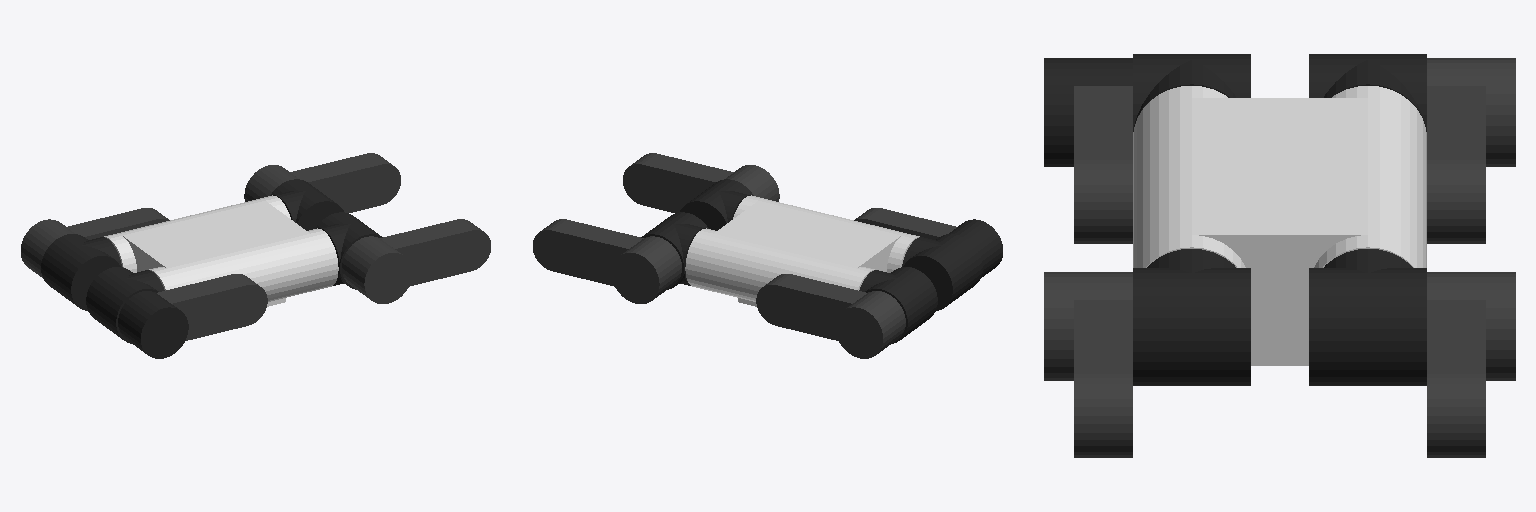
--- Render facts (derived) ---
3 views of the same robot in one strip: view 1: azimuth 30°, elevation 25°; view 2: azimuth 150°, elevation 25°; view 3: azimuth 270°, elevation 25° (orthographic).
Model felin with 17 links and 16 joints (12 revolute, 4 fixed), rooted at body-base, posed every joint at zero.
Visible links, largest first — view 1: body-base, RR-femur, FR-femur, FL-femur, RL-pod, RL-femur, RR-pod, FL-pod, FR-pod; view 2: body-base, RL-femur, FL-femur, FR-femur, RR-pod, RR-femur, RL-pod, FR-pod, FL-pod; view 3: body-base, FR-pod, FL-pod, FR-femur, RR-femur, FL-femur, RL-femur, RR-pod, RL-pod.
Boxes of the visible links, <box> form: body-base: <box>104,195,338,306</box>; RR-femur: <box>118,274,267,358</box>; FR-femur: <box>342,219,490,303</box>; FL-femur: <box>244,153,400,212</box>; RL-pod: <box>41,234,121,310</box>; RL-femur: <box>21,208,169,277</box>; RR-pod: <box>86,267,164,343</box>; FL-pod: <box>270,179,343,230</box>; FR-pod: <box>315,212,382,289</box>; body-base: <box>685,195,919,306</box>; RL-femur: <box>756,274,905,358</box>; FL-femur: <box>533,219,681,303</box>; FR-femur: <box>623,153,779,212</box>; RR-pod: <box>902,234,982,310</box>; RR-femur: <box>854,208,1002,277</box>; RL-pod: <box>859,267,937,343</box>; FR-pod: <box>680,179,753,230</box>; FL-pod: <box>641,212,708,289</box>; body-base: <box>1133,86,1426,365</box>; FR-pod: <box>1133,249,1250,385</box>; FL-pod: <box>1309,249,1426,385</box>; FR-femur: <box>1044,272,1132,457</box>; RR-femur: <box>1044,58,1132,243</box>; FL-femur: <box>1427,272,1515,457</box>; RL-femur: <box>1427,58,1515,243</box>; RR-pod: <box>1133,54,1250,131</box>; RL-pod: <box>1309,54,1426,131</box>.
Size in the robot's own frame: 0.554 by 0.32 by 0.108 metres.
Geometry: primitives only (box / cylinder / sphere), no mesh files.

robot.urdf — felin:
<?xml version="1.0"?>

<!-- 
    ############################################
    ######              MEMO              ######
    ############################################
    x = front
    y = left
    z = up
    
    Origin is placed at geometry center of the body 

    https://mymodelrobot.appspot.com/[number redacted]
-->

<robot name="felin">


    <material name="white">
        <color rgba="0.9 0.9 0.9 1.0"/>
    </material>
    <material name="black">
        <color rgba="0.2 0.2 0.2 1.0"/>
    </material>
    <material name="dark_grey">
        <color rgba="0.3 0.3 0.3 1.0"/>
    </material>    
    <material name="grey">
        <color rgba="0.6 0.6 0.6 1.0"/>
    </material>

    <!-- 
    ############################################
    ######              BODY              ######
    ############################################
    -->
    <!--
    ********************************************
    ******              PARTS             ******
    ********************************************
    -->
    <link name="body-base">
        <!--body-base-case-->
        <visual>
            <geometry>
                <box size="0.220 0.120 0.080"/>
            </geometry>
            <origin rpy="0 0 0" xyz="0 0 0"/>
            <material name="white"/>          
        </visual>
        <collision>
            <geometry>
                <box size="0.220 0.120 0.080"/>
            </geometry>
            <origin rpy="0 0 0" xyz="0 0 0"/>
        </collision>
        
        <!--body-base-right-cylinder-->
        <visual>
            <geometry>
                <cylinder length="0.260" radius="0.040"/> 
            </geometry>
            <origin rpy="0 1.57079 0" xyz="0.0 -0.06 0"/>
            <material name="white"/>                          
        </visual>
        <collision>
            <geometry>
                <cylinder length="0.260" radius="0.040"/> 
            </geometry>
            <origin rpy="0 1.57079 0" xyz="0.0 -0.06 0"/>
        </collision>

        <!--body-base-left-cylinder-->
        <visual>
            <geometry>
                <cylinder length="0.260" radius="0.040"/> 
            </geometry>
            <origin rpy="0 1.57079 0" xyz="0.0 0.06 0"/>
            <material name="white"/>                          
        </visual>
        <collision>
            <geometry>
                <cylinder length="0.260" radius="0.040"/> 
            </geometry>
            <origin rpy="0 1.57079 0" xyz="0.0 0.06 0"/>
        </collision>

        <!--body-battery-holder-->
        <visual>
            <geometry>
                <box size="0.178 0.060 0.028"/>
            </geometry>
            <origin rpy="0 0 0" xyz="0.0 0.0 -0.054"/>
            <material name="white"/>                          
        </visual>
        <collision>
            <geometry>
                <box size="0.178 0.060 0.028"/>
            </geometry>
            <origin rpy="0 0 0" xyz="0.0 0.0 -0.054"/>
        </collision>

        <inertial>
            <origin rpy="0 0 0" xyz="0.050 0 0"/>
            <mass value="2.4"/> <!--3-->
            <inertia ixx="0.02" ixy="0.0" ixz="0.0" iyy="0.03" iyz="0.0" izz="0.03"/>
        </inertial>
    </link>
        
    <!-- 
    ############################################
    ######              LEG Front Right   ######
    ############################################
    -->
    <!--
    ********************************************
    ******              PARTS             ******
    ********************************************
    -->
    <link name="FR-pod">
        <visual>
            <geometry>
                <cylinder length="0.080" radius="0.040"/>
            </geometry>
            <origin rpy="1.57079 0 0" xyz="0 0 0"/>
            <material name="black"/>
        </visual>
        <visual>
            <geometry>
                <cylinder length="0.040" radius="0.040"/>
            </geometry>
            <origin rpy="0.0 0 0" xyz="0.0 0 0.02"/>
            <material name="black"/>                          
        </visual>
        <collision>
            <geometry>
                <cylinder length="0.080" radius="0.040"/>
            </geometry>
            <origin rpy="1.57079 0 0" xyz="0 0 0"/>
        </collision>
        <inertial>
            <mass value="0.4"/>
            <inertia ixx="0.0003" ixy="0.0" ixz="0.0" iyy="0.0008" iyz="0.0" izz="0.0008"/>
        </inertial>        
    </link>
    
    <link name="FR-femur">
        <visual>
            <geometry>
                <cylinder radius="0.037" length="0.060"/>
            </geometry>
            <origin rpy="0.0 0.0 0.0" xyz="0.0 0.0 -0.01"/>
            <material name="dark_grey"/>          
        </visual>
        <visual>
            <geometry>
                <box size="0.140 0.060 0.040"/>
            </geometry>
            <origin rpy="0 0 0" xyz="0.07 0 0"/>
            <material name="dark_grey"/>
        </visual>
        <visual>
            <geometry>
                <cylinder radius="0.03" length="0.040"/>
            </geometry>
            <origin rpy="0.0 0.0 0.0" xyz="0.14 0.0 0.0"/>
            <material name="dark_grey"/>
        </visual>

        <collision>
            <geometry>
                <cylinder radius="0.037" length="0.060"/>
            </geometry>
            <origin rpy="0.0 0.0 0.0" xyz="0.0 0.0 -0.01"/>
        </collision>
        <collision>
            <geometry>
                <box size="0.140 0.060 0.040"/>
            </geometry>
            <origin rpy="0 0 0" xyz="0.07 0 0"/>          
        </collision>
        <collision>
            <geometry>
                <cylinder radius="0.03" length="0.040"/>
            </geometry>
            <origin rpy="0.0 0.0 0.0" xyz="0.14 0.0 0.0"/>        
        </collision>

        <inertial>
          <mass value="0.5"/>
          <inertia ixx="0.0001" ixy="0.0" ixz="0.0" iyy="0.0001" iyz="0.0" izz="0.0001"/>
        </inertial>      
    </link>
    
    <link name="FR-tibia">
        <visual>
            <geometry>
                <box size="0.150 0.020 0.025"/>
            </geometry>
            <origin rpy="0 0 0" xyz="0.075 0 0"/>
            <material name="grey"/>  
        </visual>
        <collision>
            <geometry>
                <box size="0.150 0.020 0.025"/>
            </geometry>
            <origin rpy="0 0 0" xyz="0.075 0 0"/>
        </collision>
        <inertial>
          <mass value="0.1"/>
          <inertia ixx="0.0001" ixy="0.0" ixz="0.0" iyy="0.0001" iyz="0.0" izz="0.0001"/>
        </inertial>      
    </link>

    <link name="FR-foot">
        <visual>
            <geometry>
                <sphere radius="0.022"/>
            </geometry>
            <material name="black"/>     
        </visual>
        <collision>
            <geometry>
                <sphere radius="0.022"/>
            </geometry>
        </collision>
        <contact>
            <stiffness value="10000"/>
            <damping value="1000"/>
            <lateral_friction value="1"/>
        </contact>   
        <inertial>
          <mass value="0.05"/>
          <inertia ixx="0.0001" ixy="0.0" ixz="0.0" iyy="0.0001" iyz="0.0" izz="0.0001"/>
        </inertial>           
    </link>
    
    <!--
    ********************************************
    ******             JOINTS             ******
    ********************************************
    -->
    <joint name="FR-ABD" type="revolute">
        <parent link="body-base"/>
        <child link="FR-pod"/>
        <origin rpy="0 -1.57079 0" xyz="0.172 -0.060 0"/>
        <axis xyz="0 0 1"/>
        <limit lower="-0.4" upper="0.4" effort="100" velocity="1000"/>      
    </joint>
    
    <joint name="FR-HIPS" type="revolute">
        <parent link="FR-pod"/>
        <child link="FR-femur"/>
        <!--<origin rpy="-1.57079 0 1.57079" xyz="0.0 -0.06 0.0"/> --><!-- abduction along y -->
        <origin rpy="-1.57079 1.57079 0" xyz="0.0 -0.06 0.0"/>
        <axis xyz="0 0 1"/>
        <limit lower="0.0" upper="3.4" effort="100" velocity="1000"/>
    </joint>
    
    <joint name="FR-KNEE" type="revolute">
        <parent link="FR-femur"/>
        <child link="FR-tibia"/>
        <origin rpy="0 0 -3.14159" xyz="0.140 0.0 0"/>
        <axis xyz="0 0 1"/>
        <limit lower="0.0" upper="3.1" effort="100" velocity="1000"/>
    </joint>
    
    <joint name="FR-FOOT" type="fixed">
        <parent link="FR-tibia"/>
        <child link="FR-foot"/>
        <origin rpy="0 0 0" xyz="0.150 0.0 -0.0"/>
    </joint>

    <!-- 
    ############################################
    ######              LEG Rear Right   ######
    ############################################
    -->
    <!--
    ********************************************
    ******              PARTS             ******
    ********************************************
    -->
    <link name="RR-pod">
        <visual>
            <geometry>
                <cylinder length="0.080" radius="0.040"/>
            </geometry>
            <origin rpy="1.57079 0 0" xyz="0 0 0"/>
            <material name="black"/>
        </visual>
        <visual>
            <geometry>
                <cylinder length="0.040" radius="0.040"/>
            </geometry>
            <origin rpy="0.0 0 0" xyz="0.0 0 -0.02"/>
            <material name="black"/>
        </visual>
        <collision>
            <geometry>
                <cylinder length="0.080" radius="0.040"/>
            </geometry>
            <origin rpy="1.57079 0 0" xyz="0 0 0"/>
        </collision>
        <inertial>
            <mass value="0.4"/>
            <inertia ixx="0.0003" ixy="0.0" ixz="0.0" iyy="0.0008" iyz="0.0" izz="0.0008"/>
        </inertial>           
    </link>
    

    <link name="RR-femur">
        <visual>
            <geometry>
                <cylinder radius="0.037" length="0.060"/>
            </geometry>
            <origin rpy="0.0 0.0 0.0" xyz="0.0 0.0 -0.01"/>
            <material name="dark_grey">
                <color rgba="0.2 0.2 0.2 1.0"/>
           </material>            
        </visual>
        <visual>
            <geometry>
                <box size="0.140 0.060 0.040"/>
            </geometry>
            <origin rpy="0 0 0" xyz="0.07 0 0"/>
            <material name="dark_grey"/>       
        </visual>
        <visual>
            <geometry>
                <cylinder radius="0.03" length="0.040"/>
            </geometry>
            <origin rpy="0.0 0.0 0.0" xyz="0.14 0.0 0.0"/>
            <material name="dark_grey"/>      
        </visual>

        <collision>
            <geometry>
                <cylinder radius="0.037" length="0.060"/>
            </geometry>
            <origin rpy="0.0 0.0 0.0" xyz="0.0 0.0 -0.01"/>
        </collision>
        <collision>
            <geometry>
                <box size="0.140 0.060 0.040"/>
            </geometry>
            <origin rpy="0 0 0" xyz="0.07 0 0"/>          
        </collision>
        <collision>
            <geometry>
                <cylinder radius="0.03" length="0.040"/>
            </geometry>
            <origin rpy="0.0 0.0 0.0" xyz="0.14 0.0 0.0"/>        
        </collision>

        <inertial>
          <mass value="0.5"/>
          <inertia ixx="0.0001" ixy="0.0" ixz="0.0" iyy="0.0001" iyz="0.0" izz="0.0001"/>
        </inertial>      
    </link>
    

    <link name="RR-tibia">
        <visual>
            <geometry>
                <box size="0.150 0.020 0.025"/>
            </geometry>
            <origin rpy="0 0 0" xyz="0.075 0 0"/>
            <material name="grey"/>     
        </visual>
        <collision>
            <geometry>
                <box size="0.150 0.020 0.025"/>
            </geometry>
            <origin rpy="0 0 0" xyz="0.075 0 0"/>
        </collision>
        <inertial>
          <mass value="0.1"/>
          <inertia ixx="0.0001" ixy="0.0" ixz="0.0" iyy="0.0001" iyz="0.0" izz="0.0001"/>
        </inertial>      
    </link>

    <link name="RR-foot">
        <visual>
            <geometry>
                <sphere radius="0.022"/>
            </geometry>
            <material name="black"/>          
        </visual>
        <collision>
            <geometry>
                <sphere radius="0.022"/>
            </geometry>
        </collision>
        <contact>
            <stiffness value="10000"/>
            <damping value="1000"/>
            <lateral_friction value="1"/>
        </contact>   
        <inertial>
          <mass value="0.05"/>
          <inertia ixx="0.0001" ixy="0.0" ixz="0.0" iyy="0.0001" iyz="0.0" izz="0.0001"/>
        </inertial>           
    </link>    
    
    <!--
    ********************************************
    ******             JOINTS             ******
    ********************************************
    -->
    <joint name="RR-ABD" type="revolute">
        <parent link="body-base"/>
        <child link="RR-pod"/>
        <origin rpy="0 -1.57079 0" xyz="-0.172 -0.060 0"/>
        <axis xyz="0 0 1"/>
        <limit lower="-0.4" upper="0.4" effort="100" velocity="1000"/> 
    </joint>
    
    <joint name="RR-HIPS" type="revolute">
        <parent link="RR-pod"/>
        <child link="RR-femur"/>
        <!--<origin rpy="-1.57079 0 1.57079" xyz="0.0 -0.06 0.0"/> --><!-- abduction along y -->
        <origin rpy="-1.57079 1.57079 0" xyz="0.0 -0.06 0.0"/>
        <axis xyz="0 0 1"/>
        <limit lower="0.0" upper="3.4" effort="100" velocity="1000"/>
    </joint>
    
    <joint name="RR-KNEE" type="revolute">
        <parent link="RR-femur"/>
        <child link="RR-tibia"/>
        <origin rpy="0 0 -3.14159" xyz="0.140 0.0 0"/>
        <axis xyz="0 0 1"/>
        <limit lower="0.0" upper="3.1" effort="100" velocity="1000"/>
    </joint>
    
    <joint name="RR-FOOT" type="fixed">
        <parent link="RR-tibia"/>
        <child link="RR-foot"/>
        <origin rpy="0 0 0" xyz="0.150 0.0 -0.0"/>
    </joint>


    <!-- 
    ############################################
    ######              LEG Front Left   ######
    ############################################
    -->
    <!--
    ********************************************
    ******              PARTS             ******
    ********************************************
    -->
    <link name="FL-pod">
        <visual>
            <geometry>
                <cylinder length="0.080" radius="0.040"/>
            </geometry>
            <origin rpy="1.57079 0 0" xyz="0 0 0"/>
            <material name="black"/>
        </visual>
        <visual>
            <geometry>
                <cylinder length="0.040" radius="0.040"/>
            </geometry>
            <origin rpy="0.0 0 0" xyz="0 0 0.02"/>
            <material name="black"/>
        </visual>
        <collision>
            <geometry>
                <cylinder length="0.080" radius="0.040"/>
            </geometry>
            <origin rpy="1.57079 0 0" xyz="0 0 0"/>
        </collision>
        <inertial>
            <mass value="0.4"/>
            <inertia ixx="0.0003" ixy="0.0" ixz="0.0" iyy="0.0008" iyz="0.0" izz="0.0008"/>
        </inertial>        
    </link>
    
    <link name="FL-femur">
        <visual>
            <geometry>
                <cylinder radius="0.037" length="0.060"/>
            </geometry>
            <origin rpy="0.0 0.0 0.0" xyz="0.0 0.0 0.01"/>
            <material name="dark_grey"/>      
        </visual>
        <visual>
            <geometry>
                <box size="0.140 0.060 0.040"/>
            </geometry>
            <origin rpy="0 0 0" xyz="0.07 0 0"/>
            <material name="dark_grey"/>          
        </visual>
        <visual>
            <geometry>
                <cylinder radius="0.03" length="0.040"/>
            </geometry>
            <origin rpy="0.0 0.0 0.0" xyz="0.14 0.0 0.0"/>
            <material name="dark_grey"/>      
        </visual>

        <collision>
            <geometry>
                <cylinder radius="0.037" length="0.060"/>
            </geometry>
            <origin rpy="0.0 0.0 0.0" xyz="0.0 0.0 0.01"/>
        </collision>
        <collision>
            <geometry>
                <box size="0.140 0.060 0.040"/>
            </geometry>
            <origin rpy="0 0 0" xyz="0.07 0 0"/>          
        </collision>
        <collision>
            <geometry>
                <cylinder radius="0.03" length="0.040"/>
            </geometry>
            <origin rpy="0.0 0.0 0.0" xyz="0.14 0.0 0.0"/>        
        </collision>

        <inertial>
          <mass value="0.5"/>
          <inertia ixx="0.0001" ixy="0.0" ixz="0.0" iyy="0.0001" iyz="0.0" izz="0.0001"/>
        </inertial>      
    </link>
    
    <link name="FL-tibia">
        <visual>
            <geometry>
                <box size="0.150 0.020 0.025"/>
            </geometry>
            <origin rpy="0 0 0" xyz="0.075 0 0"/>
            <material name="grey"/>           
        </visual>
        <collision>
            <geometry>
                <box size="0.150 0.020 0.025"/>
            </geometry>
            <origin rpy="0 0 0" xyz="0.075 0 0"/>
        </collision>
        <inertial>
          <mass value="0.1"/>
          <inertia ixx="0.0001" ixy="0.0" ixz="0.0" iyy="0.0001" iyz="0.0" izz="0.0001"/>
        </inertial>      
    </link>

    <link name="FL-foot">
        <visual>
            <geometry>
                <sphere radius="0.022"/>
            </geometry>
            <material name="black"/>   
        </visual>
        <collision>
            <geometry>
                <sphere radius="0.022"/>
            </geometry>
        </collision>
        <contact>
            <stiffness value="10000"/>
            <damping value="1000"/>
            <lateral_friction value="1"/>
        </contact>   
        <inertial>
          <mass value="0.05"/>
          <inertia ixx="0.0001" ixy="0.0" ixz="0.0" iyy="0.0001" iyz="0.0" izz="0.0001"/>
        </inertial>           
    </link>
    
    <!--
    ********************************************
    ******             JOINTS             ******
    ********************************************
    -->
    <joint name="FL-ABD" type="revolute">
        <parent link="body-base"/>
        <child link="FL-pod"/>
        <origin rpy="0 -1.57079 0" xyz="0.172 0.060 0"/>
        <axis xyz="0 0 1"/>
        <limit lower="-0.4" upper="0.4" effort="100" velocity="1000"/>      
    </joint>
    
    <joint name="FL-HIPS" type="revolute">
        <parent link="FL-pod"/>
        <child link="FL-femur"/>
        <!--<origin rpy="-1.57079 0 1.57079" xyz="0.0 -0.06 0.0"/> --><!-- abduction along y -->
        <origin rpy="-1.57079 1.57079 0" xyz="0.0 0.06 0.0"/>        
        <axis xyz="0 0 1"/>
        <limit lower="0.0" upper="3.4" effort="100" velocity="1000"/>
    </joint>
    
    <joint name="FL-KNEE" type="revolute">
        <parent link="FL-femur"/>
        <child link="FL-tibia"/>
        <origin rpy="0 0 -3.14159" xyz="0.140 0.0 0"/>
        <axis xyz="0 0 1"/>
        <limit lower="0.0" upper="3.1" effort="100" velocity="1000"/>
    </joint>
    
    <joint name="FL-FOOT" type="fixed">
        <parent link="FL-tibia"/>
        <child link="FL-foot"/>
        <origin rpy="0 0 0" xyz="0.150 0.0 -0.0"/>
    </joint>


    <!-- 
    ############################################
    ######              Leg Rear Left    ######
    ############################################
    -->
    <!--
    ********************************************
    ******              PARTS             ******
    ********************************************
    -->
    <link name="RL-pod">
        <visual>
            <geometry>
                <cylinder length="0.080" radius="0.040"/>
            </geometry>
            <origin rpy="1.57079 0 0" xyz="0 0 0"/>
            <material name="black"/>
        </visual>
        <visual>
            <geometry>
                <cylinder length="0.040" radius="0.040"/>
            </geometry>
            <origin rpy="0.0 0 0" xyz="0.0 0 -0.02"/>
            <material name="black"/>
        </visual>
        <collision>
            <geometry>
                <cylinder length="0.080" radius="0.040"/>
            </geometry>
            <origin rpy="1.57079 0 0" xyz="0 0 0"/>
        </collision>
        <inertial>
            <mass value="0.4"/>
            <inertia ixx="0.0003" ixy="0.0" ixz="0.0" iyy="0.0008" iyz="0.0" izz="0.0008"/>
        </inertial>        
    </link>
    
    <link name="RL-femur">
        <visual>
            <geometry>
                <cylinder radius="0.037" length="0.060"/>
            </geometry>
            <origin rpy="0.0 0.0 0.0" xyz="0.0 0.0 0.01"/>
           <material name="dark_grey"/>     
        </visual>
        <visual>
            <geometry>
                <box size="0.140 0.060 0.040"/>
            </geometry>
            <origin rpy="0 0 0" xyz="0.07 0 0"/>
            <material name="dark_grey"/>          
        </visual>
        <visual>
            <geometry>
                <cylinder radius="0.03" length="0.040"/>
            </geometry>
            <origin rpy="0.0 0.0 0.0" xyz="0.14 0.0 0.0"/>
            <material name="dark_grey"/>       
        </visual>

        <collision>
            <geometry>
                <cylinder radius="0.037" length="0.060"/>
            </geometry>
            <origin rpy="0.0 0.0 0.0" xyz="0.0 0.0 0.01"/>
        </collision>
        <collision>
            <geometry>
                <box size="0.140 0.060 0.040"/>
            </geometry>
            <origin rpy="0 0 0" xyz="0.07 0 0"/>          
        </collision>
        <collision>
            <geometry>
                <cylinder radius="0.03" length="0.040"/>
            </geometry>
            <origin rpy="0.0 0.0 0.0" xyz="0.14 0.0 0.0"/>        
        </collision>

        <inertial>
          <mass value="0.5"/>
          <inertia ixx="0.0001" ixy="0.0" ixz="0.0" iyy="0.0001" iyz="0.0" izz="0.0001"/>
        </inertial>      
    </link>
    
    <link name="RL-tibia">
        <visual>
            <geometry>
                <box size="0.150 0.020 0.025"/>
            </geometry>
            <origin rpy="0 0 0" xyz="0.075 0 0"/>
            <material name="grey"/>         
        </visual>
        <collision>
            <geometry>
                <box size="0.150 0.020 0.025"/>
            </geometry>
            <origin rpy="0 0 0" xyz="0.075 0 0"/>
        </collision>
        <inertial>
          <mass value="0.1"/>
          <inertia ixx="0.0001" ixy="0.0" ixz="0.0" iyy="0.0001" iyz="0.0" izz="0.0001"/>
        </inertial>      
    </link>

    <link name="RL-foot">
        <visual>
            <geometry>
                <sphere radius="0.022"/>
            </geometry>
            <material name="black"/>   
        </visual>
        <collision>
            <geometry>
                <sphere radius="0.022"/>
            </geometry>
        </collision>
        <contact>
            <stiffness value="10000"/>
            <damping value="1000"/>
            <lateral_friction value="1"/>
        </contact>   
        <inertial>
          <mass value="0.05"/>
          <inertia ixx="0.0001" ixy="0.0" ixz="0.0" iyy="0.0001" iyz="0.0" izz="0.0001"/>
        </inertial>           
    </link>
    
    <!--
    ********************************************
    ******             JOINTS             ******
    ********************************************
    -->
    <joint name="RL-ABD" type="revolute">
        <parent link="body-base"/>
        <child link="RL-pod"/>
        <origin rpy="0 -1.57079 0" xyz="-0.172 0.060 0"/>
        <axis xyz="0 0 1"/>
        <limit lower="-0.4" upper="0.4" effort="100" velocity="1000"/>      
    </joint>
    
    <joint name="RL-HIPS" type="revolute">
        <parent link="RL-pod"/>
        <child link="RL-femur"/>
        <!--<origin rpy="-1.57079 0 1.57079" xyz="0.0 -0.06 0.0"/> --><!-- abduction along y -->
        <origin rpy="-1.57079 1.57079 0" xyz="0.0 0.06 0.0"/>       
        <axis xyz="0 0 1"/>
        <limit lower="0.0" upper="3.4" effort="100" velocity="1000"/>
    </joint>
    
    <joint name="RL-KNEE" type="revolute">
        <parent link="RL-femur"/>
        <child link="RL-tibia"/>
        <origin rpy="0 0 -3.14159" xyz="0.140 0.0 0"/>
        <axis xyz="0 0 1"/>
        <limit lower="0.0" upper="3.1" effort="100" velocity="1000"/>
    </joint>
    
    <joint name="RL-FOOT" type="fixed">
        <parent link="RL-tibia"/>
        <child link="RL-foot"/>
        <origin rpy="0 0 0" xyz="0.150 0.0 -0.0"/>
    </joint>




</robot>    
